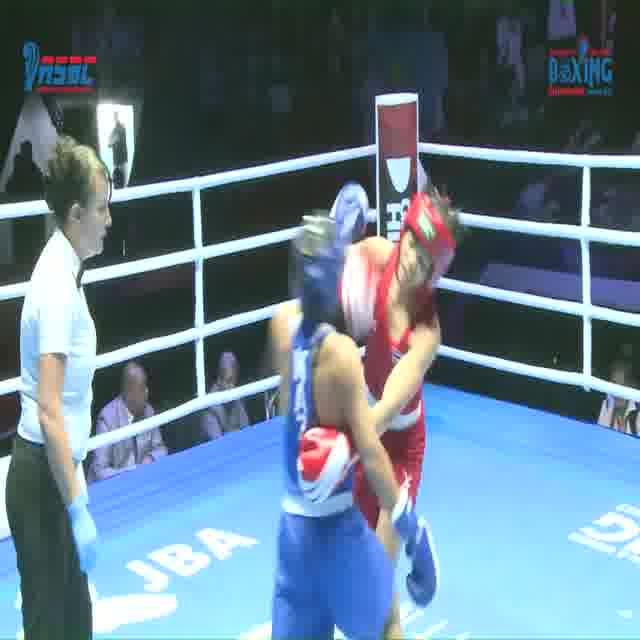blue-player: (263, 183, 442, 640)
red-player: (296, 183, 467, 640)
referee: (3, 137, 117, 640)
